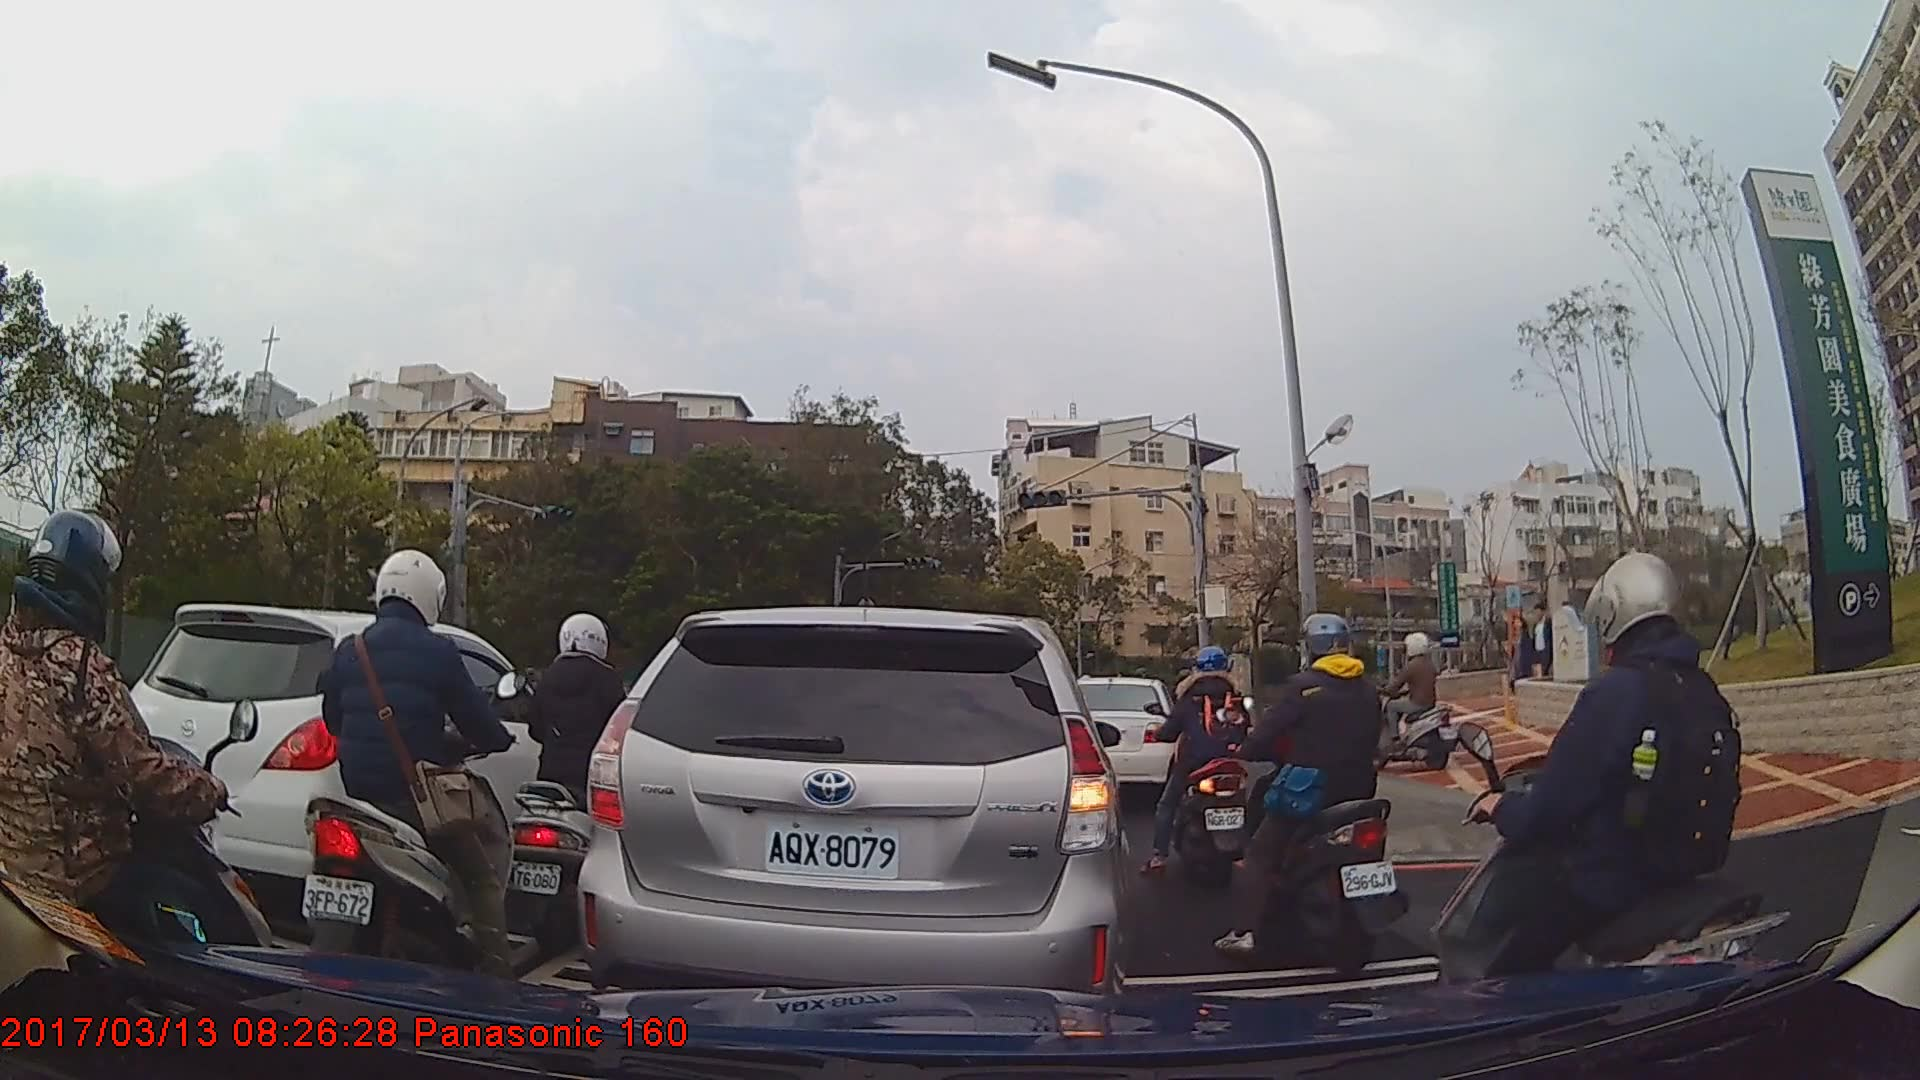pedestrian: (1525, 603, 1564, 699), (1506, 618, 1538, 706)
rider: (1427, 555, 1796, 1046), (1, 511, 281, 1068), (299, 545, 530, 1000), (1228, 606, 1412, 980), (510, 611, 675, 960), (1139, 647, 1262, 882), (1366, 632, 1456, 775)
vehicle: (586, 605, 1130, 1013), (106, 602, 591, 911), (1056, 673, 1181, 795)
